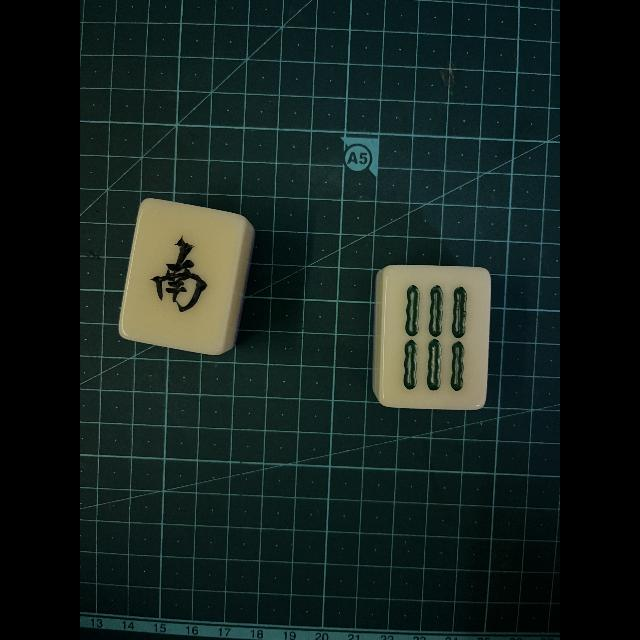b6: (388, 268, 484, 408)
ws: (131, 207, 229, 347)
